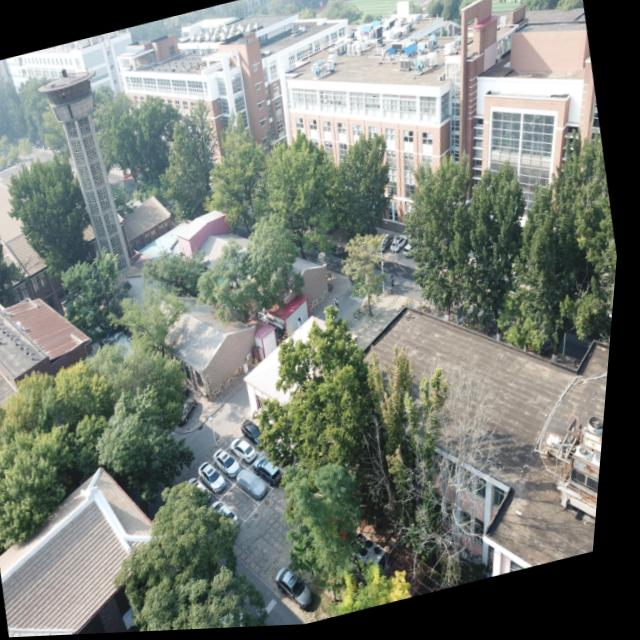Person: (338, 301, 345, 314), (340, 245, 346, 257), (394, 279, 400, 290), (517, 2, 521, 8), (515, 1, 519, 7), (505, 1, 508, 8), (514, 1, 517, 7), (510, 0, 512, 7), (498, 1, 500, 8), (514, 0, 517, 4), (508, 1, 510, 7), (500, 3, 503, 7), (499, 2, 502, 6), (504, 2, 506, 7), (504, 0, 508, 2), (507, 0, 511, 2), (517, 0, 520, 2), (509, 0, 512, 2), (511, 0, 515, 1)
